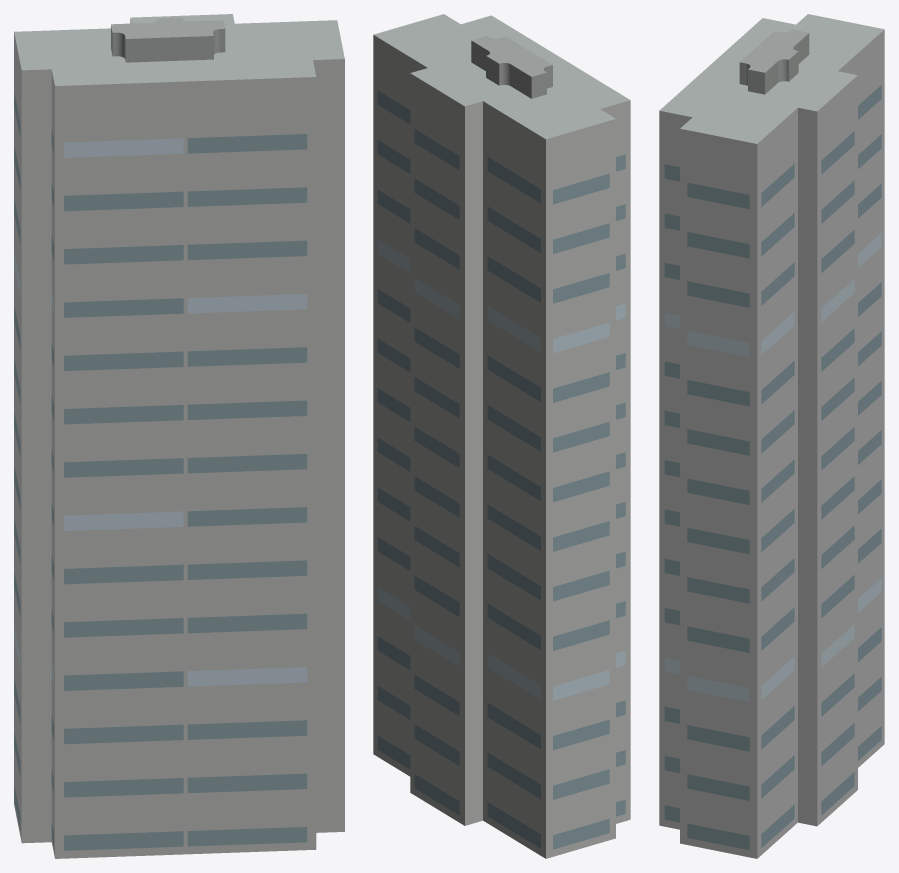
File: fallback-banpo-xi-108.glb
3 views of the same model, side by side, from view 1: azimuth 30°, elevation 25°; view 2: azimuth 150°, elevation 25°; view 3: azimuth 270°, elevation 25° (orthographic). The views are drawn at different scales.
Visible parts, largest first — view 1: fallback-banpo-xi-108; view 2: fallback-banpo-xi-108; view 3: fallback-banpo-xi-108.
Part boxes in pixels (<box>): fallback-banpo-xi-108: <box>14,14,344,858</box>; fallback-banpo-xi-108: <box>373,14,630,858</box>; fallback-banpo-xi-108: <box>659,14,884,858</box>.
Bounding box in the file's own units: 30.67 × 81 × 22.46.
